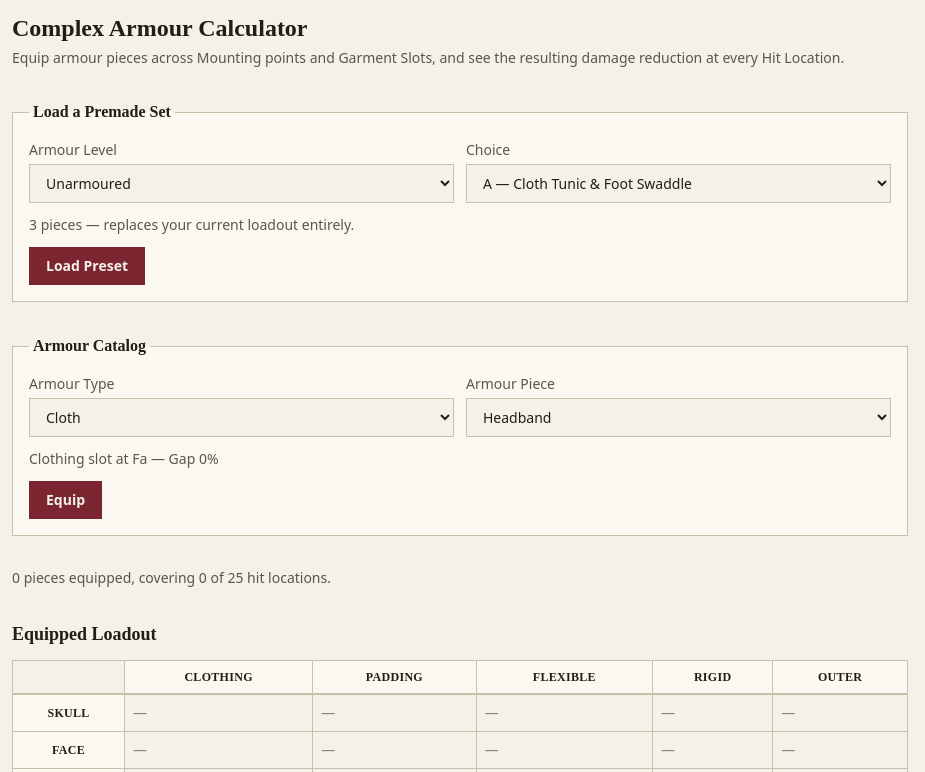
Test case: ComplexArmourCalculator › removes an item's contribution from coverage after unequipping it
Select "Hood" in the dropdown labelled "Armour Piece" at coordinates (678, 418), box [466, 398, 891, 437]
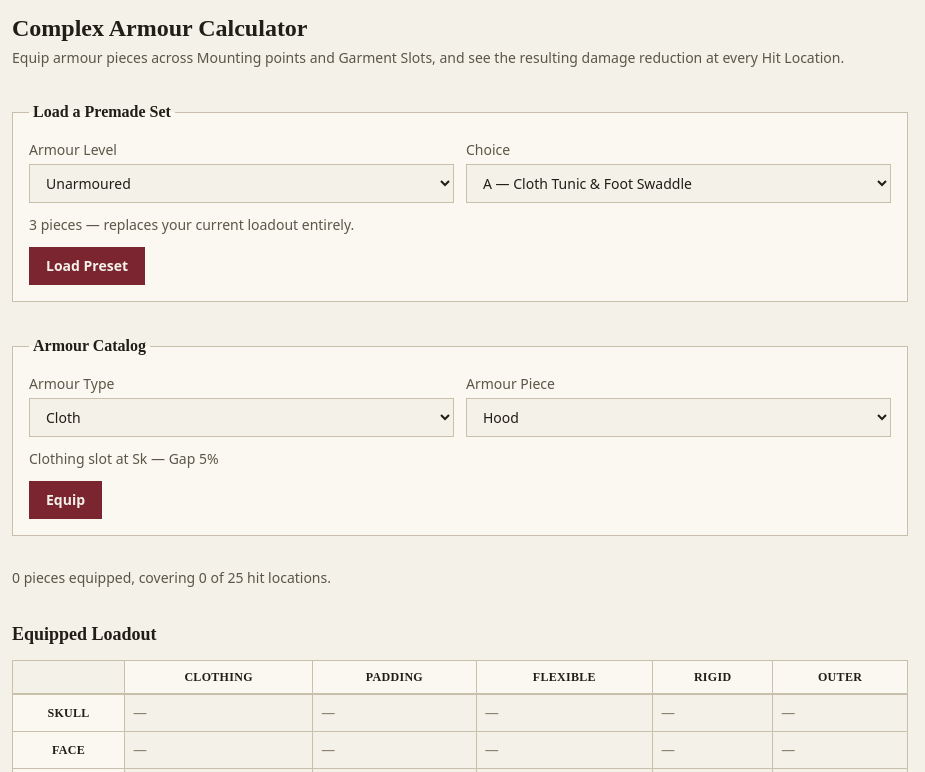
Click the button "Equip".
click(66, 500)  # box [29, 481, 102, 519]
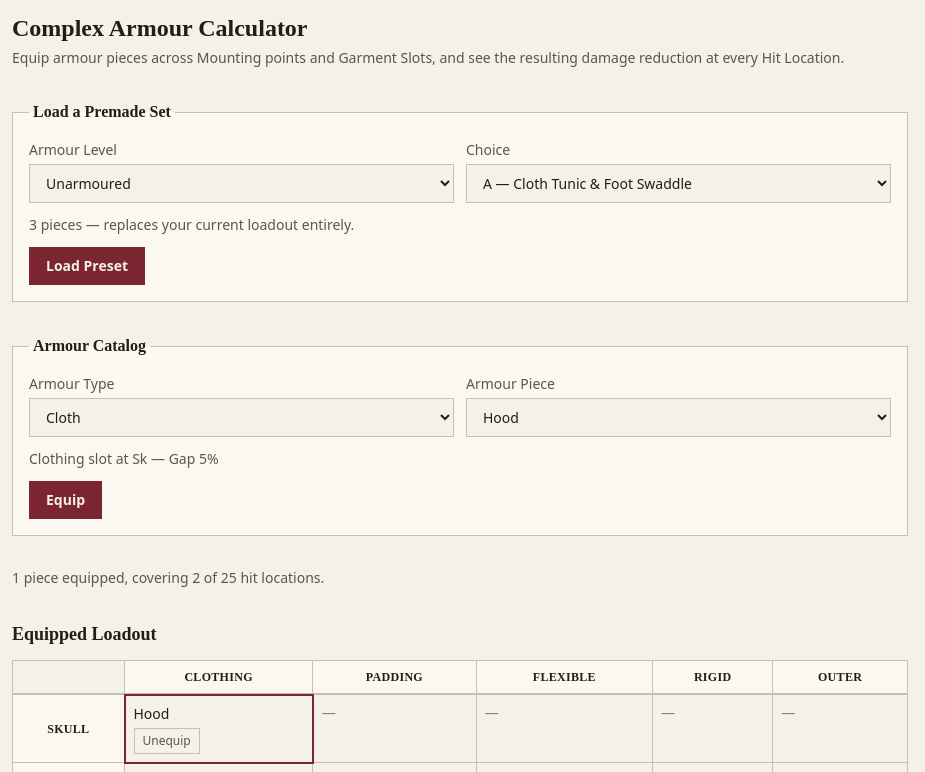
Click the button with aria-label "Unequip Hood".
click(167, 740)  # box [134, 728, 200, 754]
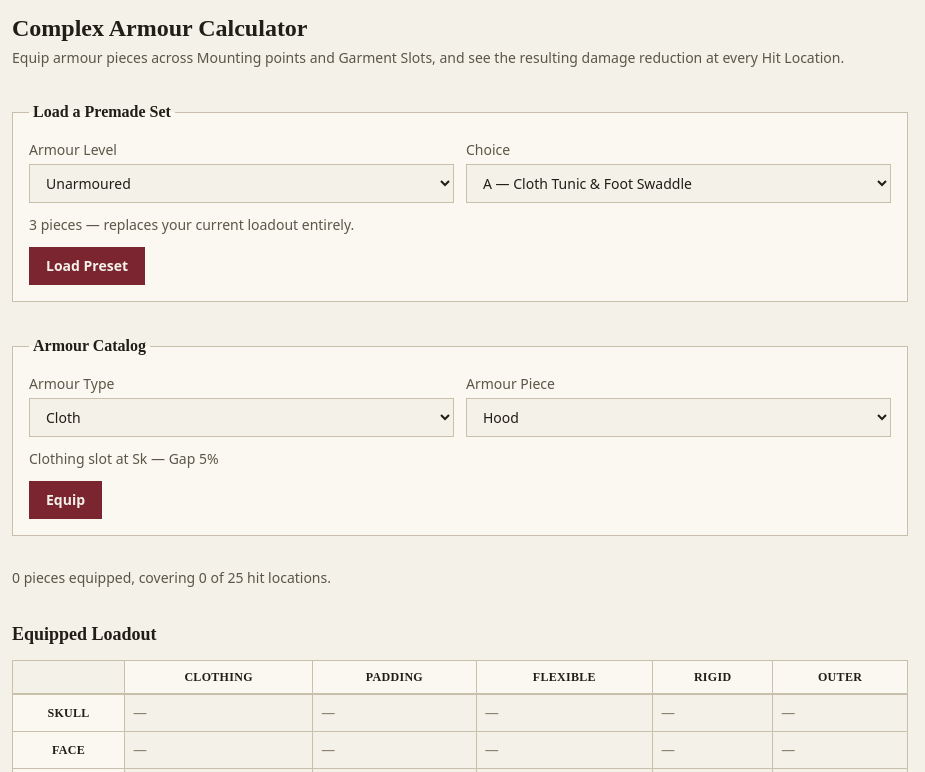
Result: the message reads "0 pieces equipped, covering 0 of 25 hit locations." at [12, 568, 331, 587]
